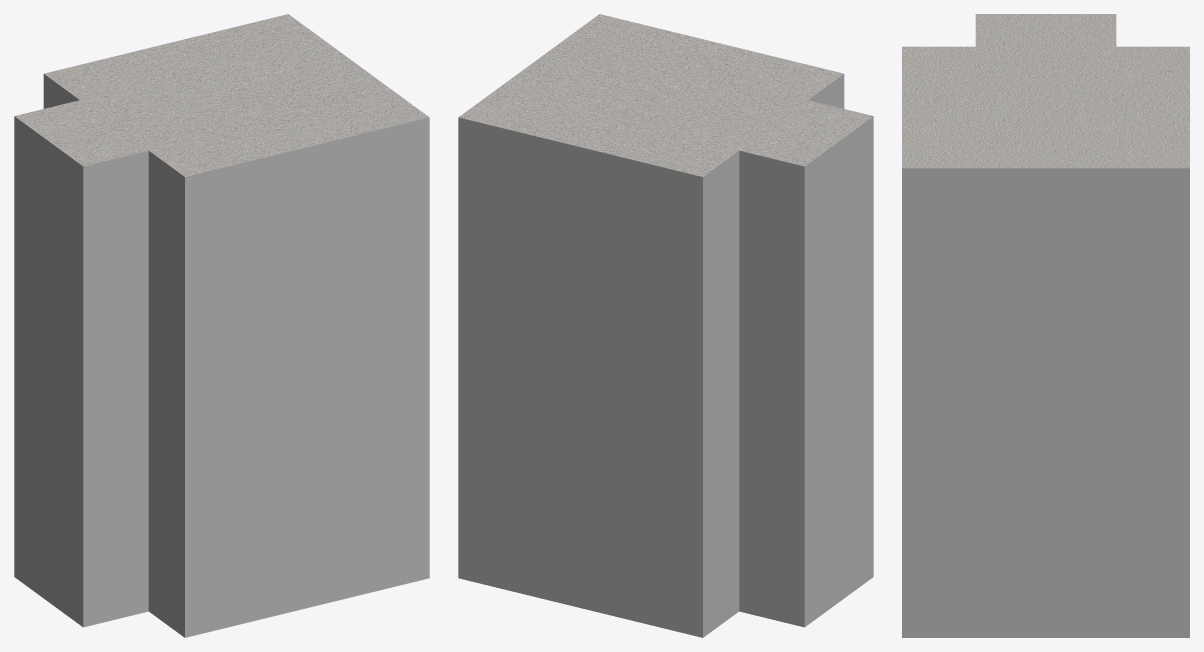
Rendered from building6.fbx.
3 views of the same model, side by side, from view 1: azimuth 30°, elevation 25°; view 2: azimuth 150°, elevation 25°; view 3: azimuth 270°, elevation 25° (orthographic).
Parts seen in each view (by area): view 1: building_011.001; view 2: building_011.001; view 3: building_011.001.
Boxes of the visible parts, left/top/right/bottom form: building_011.001: left=14, top=14, right=429, bottom=637; building_011.001: left=458, top=14, right=873, bottom=637; building_011.001: left=902, top=14, right=1189, bottom=637.
Size of the model in its own units: 1268 by 1800 by 1000.
